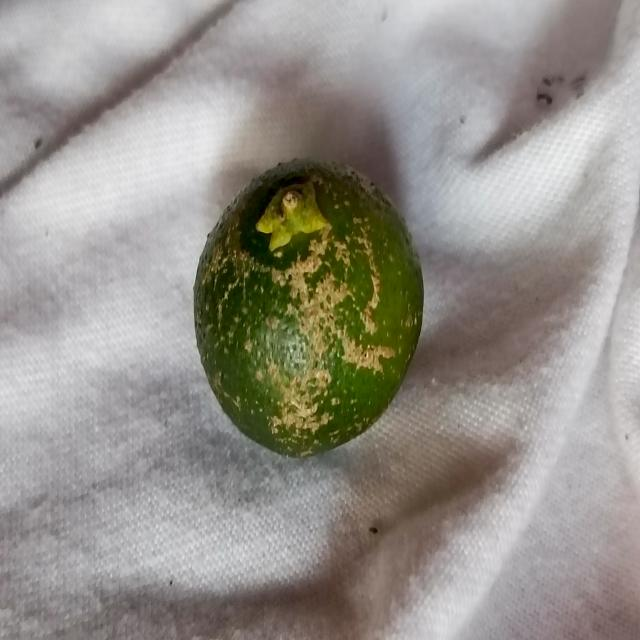scab: (188, 164, 420, 439)
